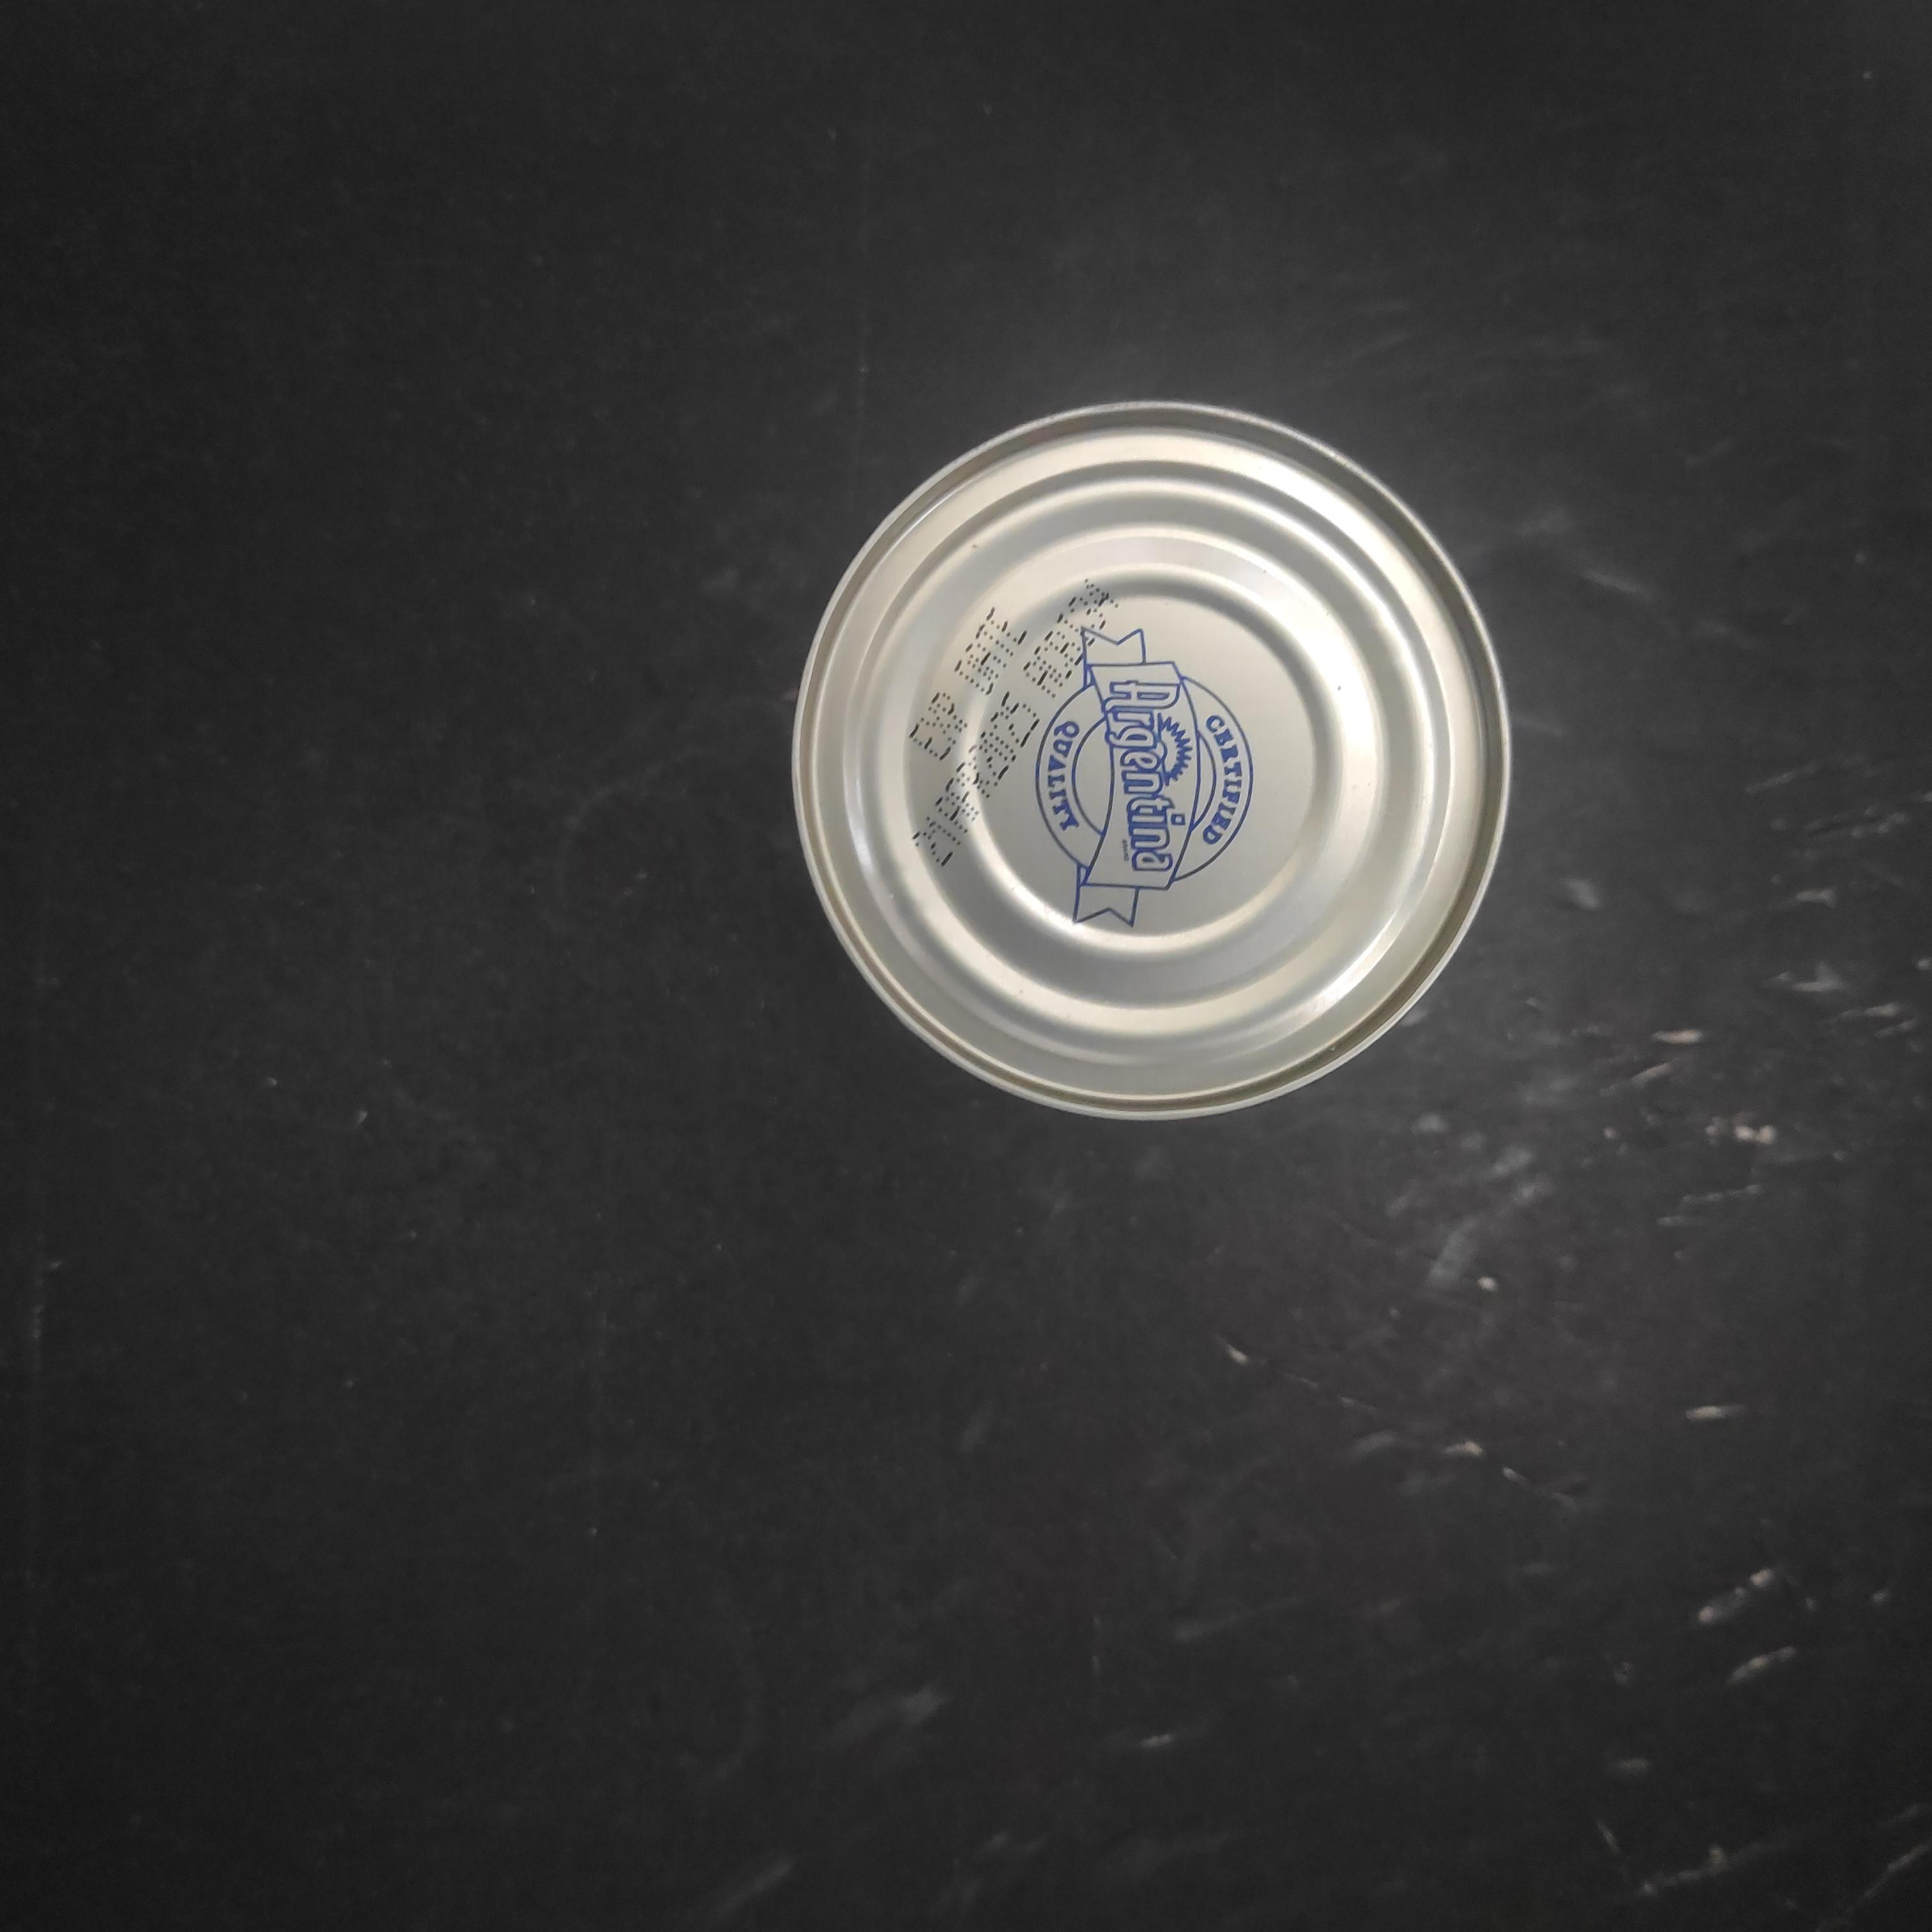No defect: (791, 400, 1514, 1122)
